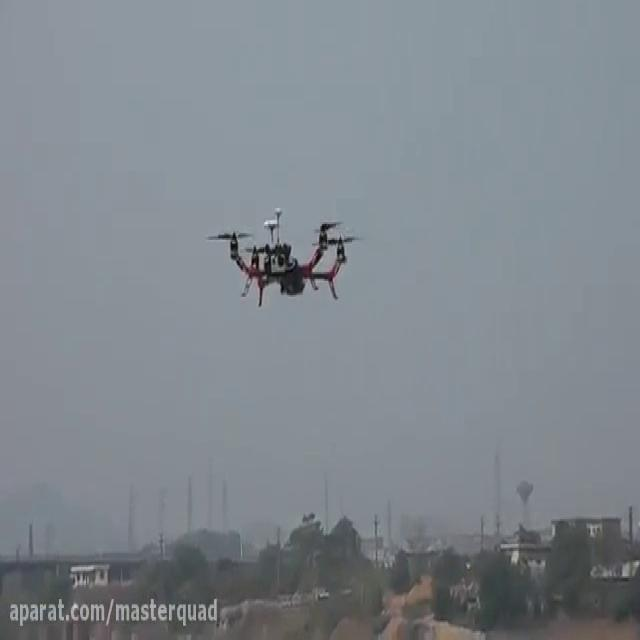drone: (203, 199, 370, 311)
